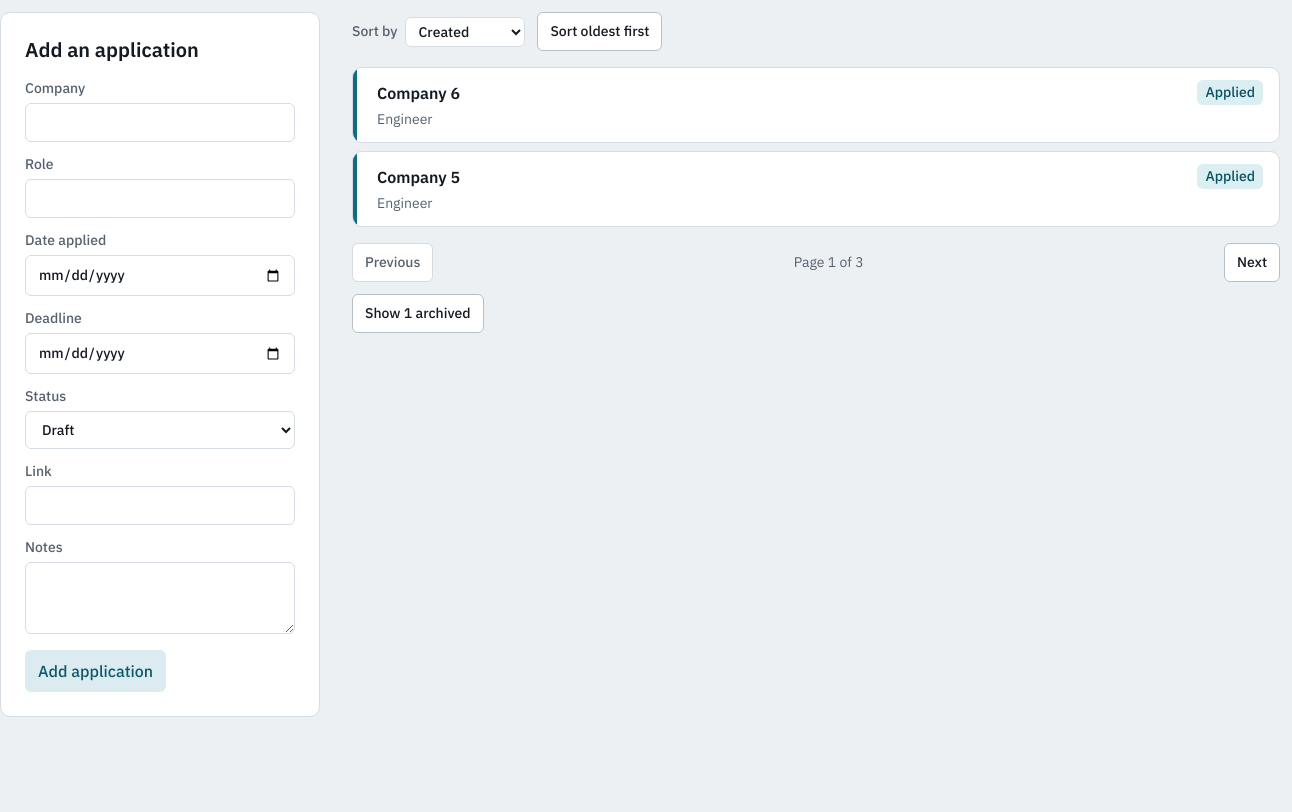
Test: revealing the archived applications returns to page 1 and counts them all
Expected: the button "Company 6 Engineer Applied" is shown, x1=377 y1=80 x2=1263 y2=130
Click the button "Next".
click(1252, 262)  # box x1=1224 y1=243 x2=1280 y2=282
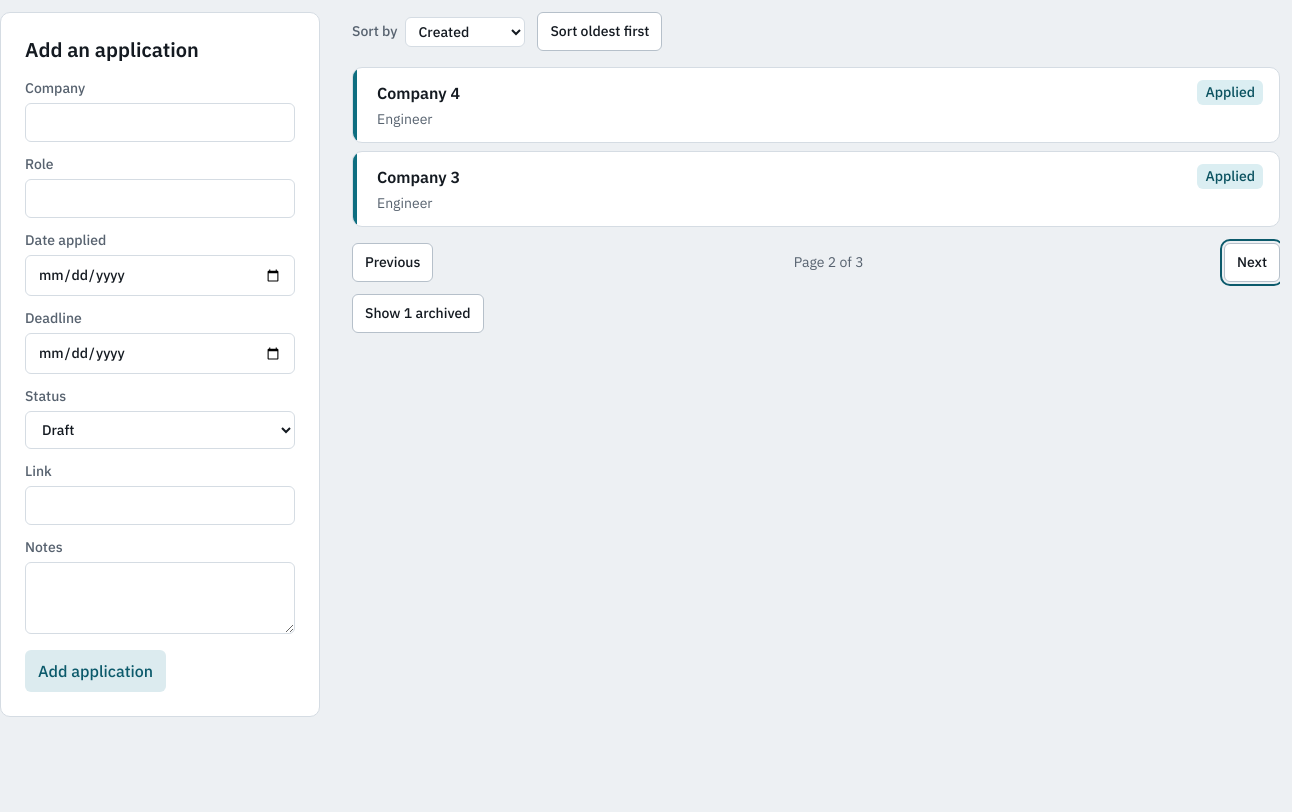
Now the text "Page 2 of 3" is shown, box x1=794 y1=252 x2=864 y2=273
Click the button "Show 1 archived".
click(418, 314)  # box x1=352 y1=294 x2=484 y2=333
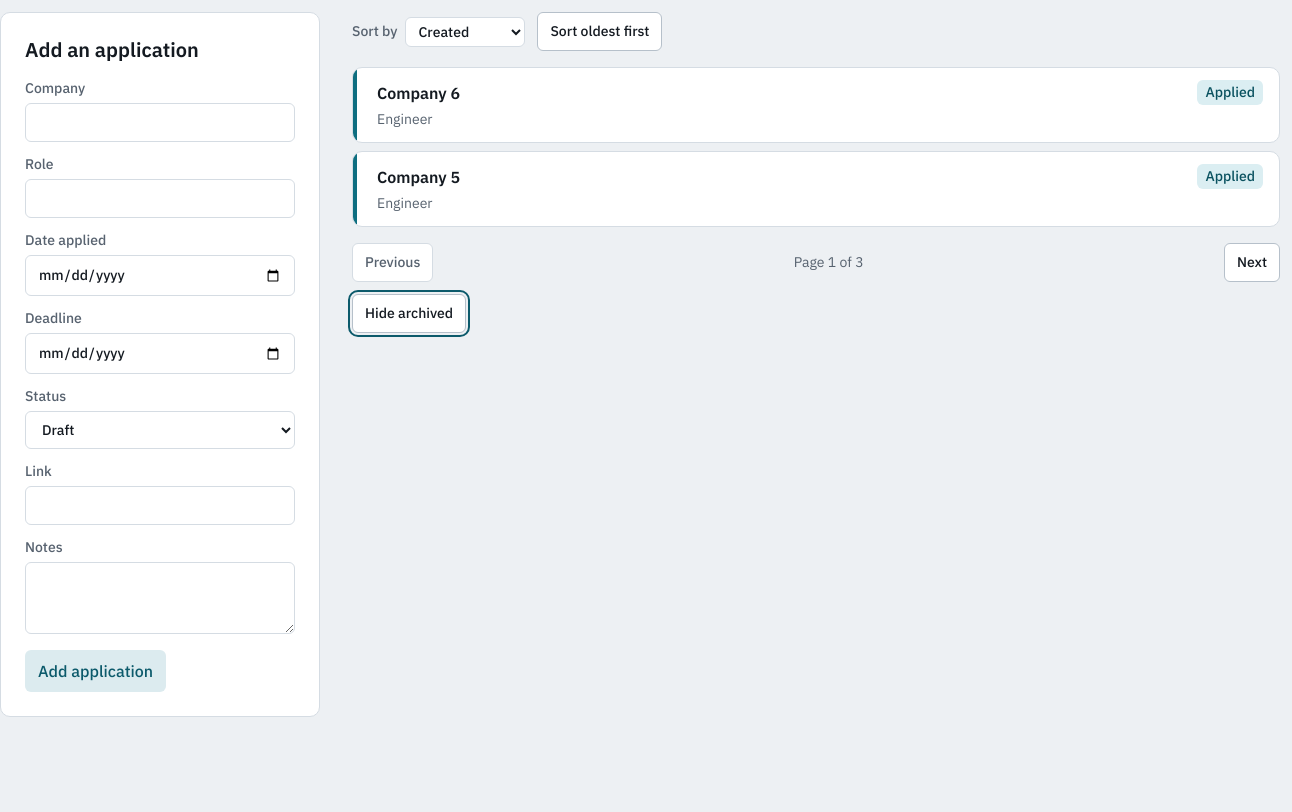
Now the text "Page 1 of 3" is shown, box x1=794 y1=252 x2=864 y2=273
